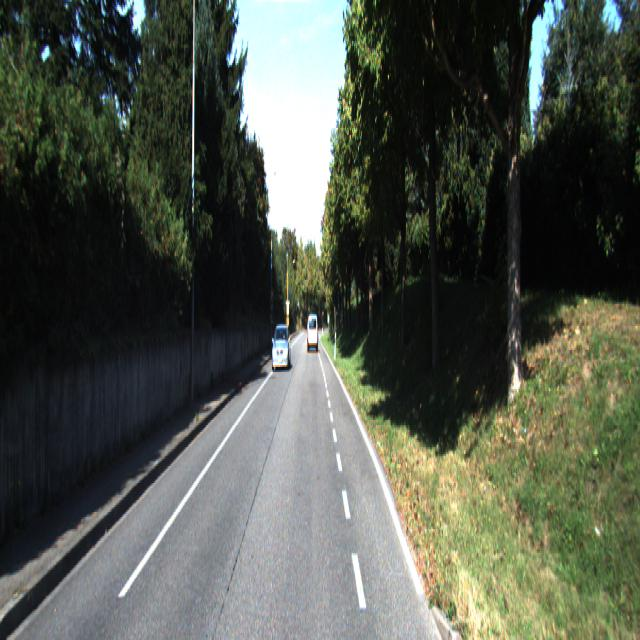Car: (270, 322, 290, 371), (307, 312, 319, 353)
